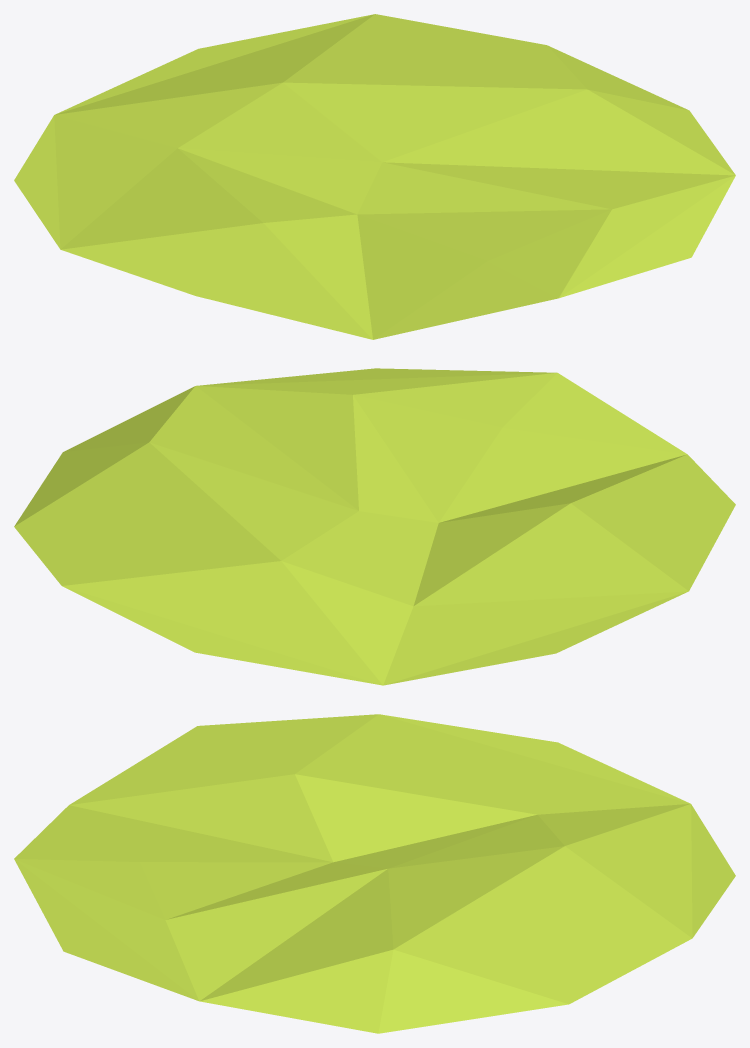
Rendered from Bowl_Soup.fbx.
The picture shows the model from 3 angles, top to bottom: view 1: azimuth 30°, elevation 25°; view 2: azimuth 150°, elevation 25°; view 3: azimuth 270°, elevation 25°; orthographic projection.
Visible parts, largest first — view 1: Bowl_Soup; view 2: Bowl_Soup; view 3: Bowl_Soup.
Boxes of the visible parts, x1,y1,x2,y2 form: Bowl_Soup: [14, 14, 735, 339]; Bowl_Soup: [14, 368, 735, 685]; Bowl_Soup: [14, 714, 735, 1033].
Size of the model in its own units: 9.76 by 0.6099 by 9.74.
